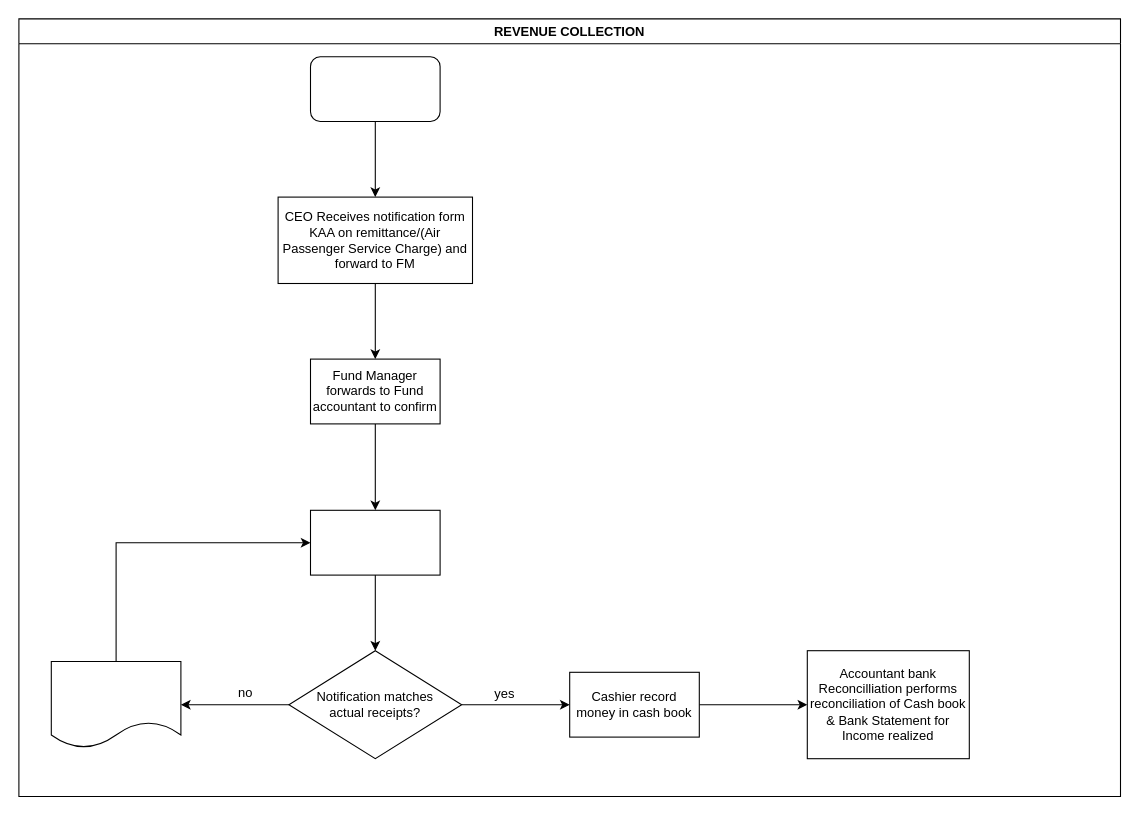
The diagram is 1139 pixels wide and 815 high, and some of its shapes have lost their labels. The centre of each missing label's shape, as x and y in pixels:
"Accountant confirms with the bank the actual receipts" belongs at (x=374, y=542).
"Comments to fund manager" belongs at (x=115, y=704).
"Start" belongs at (x=374, y=89).
